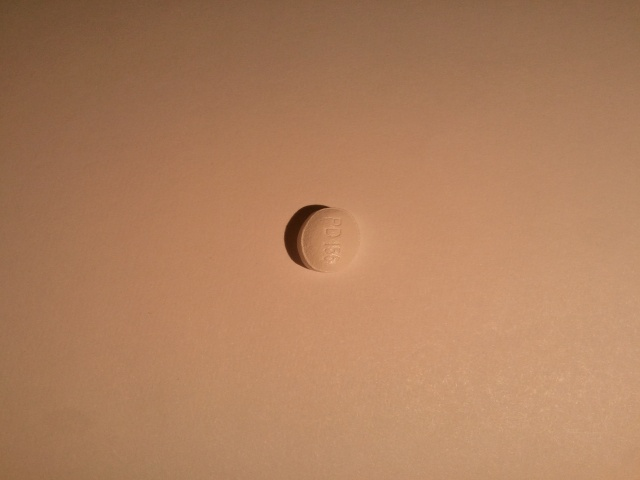1: (323, 241, 343, 247)
5: (323, 248, 342, 255)
6: (324, 256, 343, 263)
D: (322, 227, 345, 240)
P: (322, 214, 343, 228)
